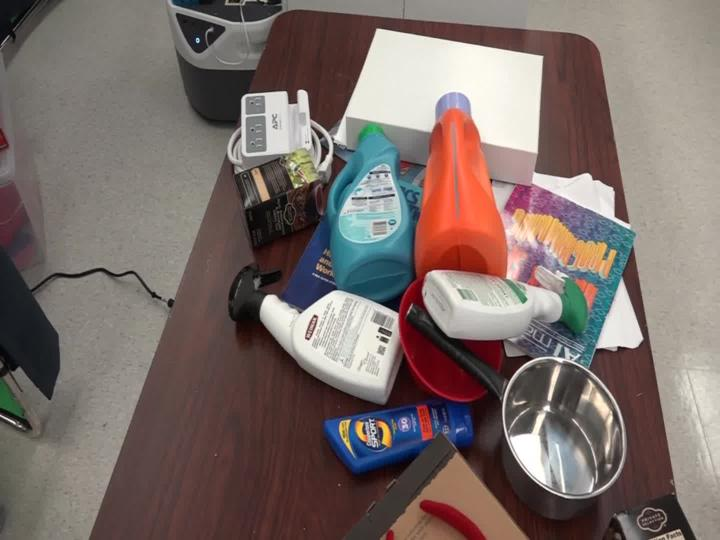tide: (403, 76, 529, 296)
